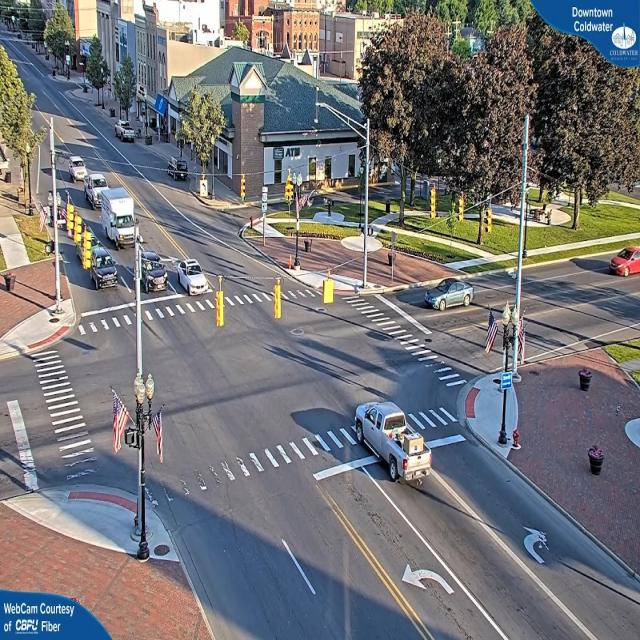car: (355, 398, 431, 490), (424, 276, 474, 310), (174, 261, 209, 295), (91, 248, 118, 292), (142, 252, 166, 294), (609, 252, 640, 279), (165, 158, 189, 180), (116, 123, 136, 143)
truck: (100, 185, 141, 249)
